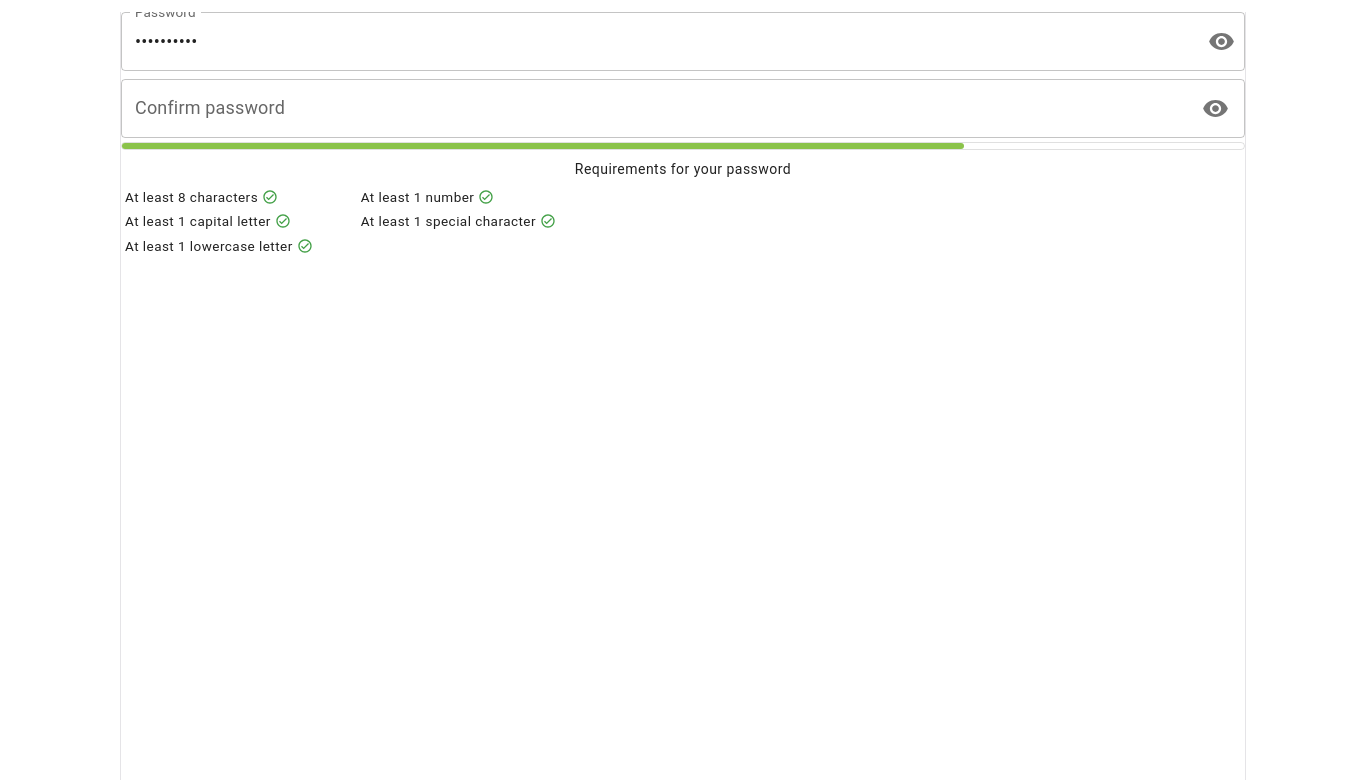
Test case: Confirm Field › Should show mismatch icon when passwords differ
Type "Other" into the password field with test id "psm-confirm-input" at {"x": 655, "y": 108}, box [121,79,1189,138]
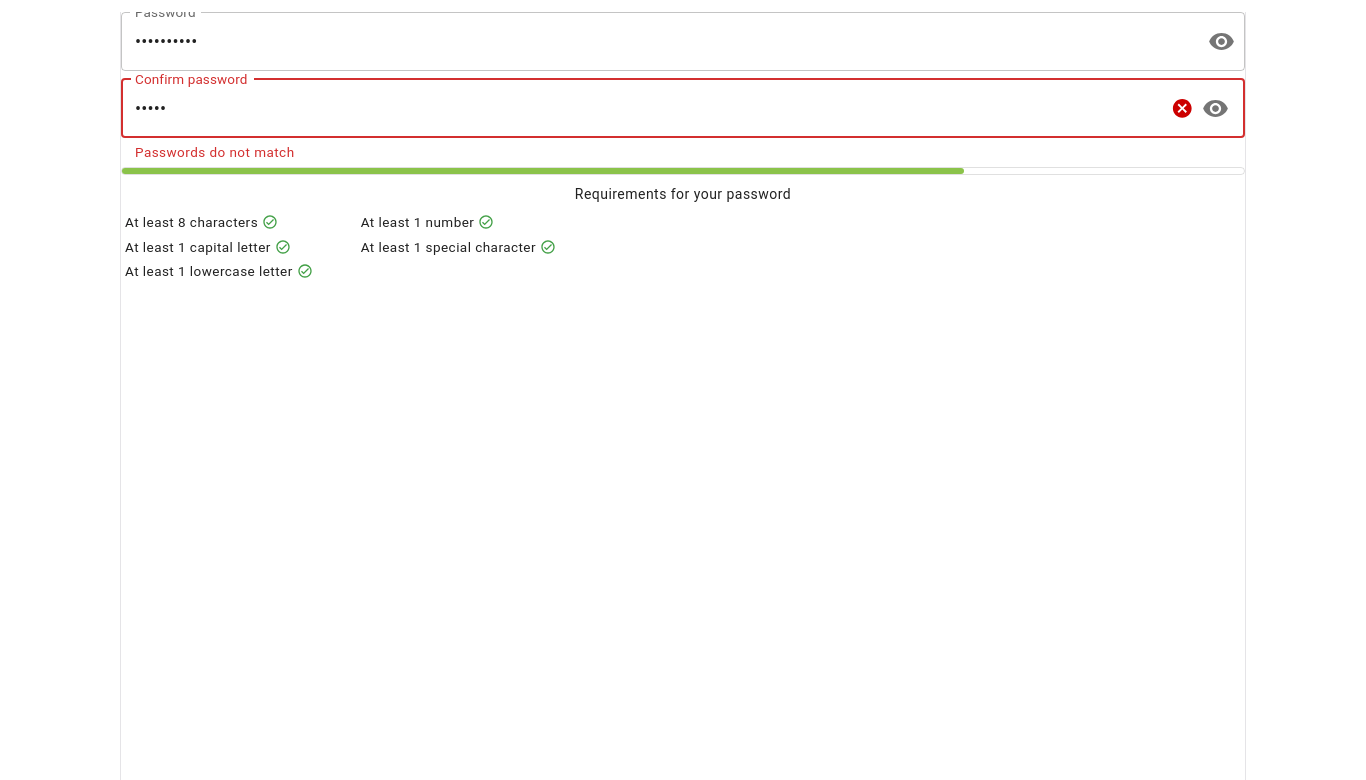
expect the icon with test id "psm-confirm-mismatch" is shown: met, box [1170,97,1193,120]
